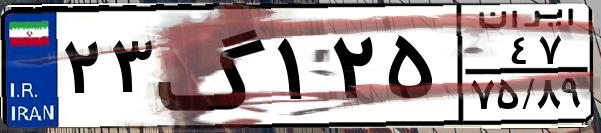1: (270, 28, 330, 110)
2: (330, 28, 385, 110), (57, 26, 110, 100)
3: (110, 28, 156, 98)
4: (508, 27, 537, 80)
5: (385, 28, 445, 110), (495, 70, 520, 125)
7: (537, 27, 568, 80), (470, 70, 495, 125)
8: (535, 70, 560, 125)
9: (560, 70, 590, 125)
گ: (156, 12, 270, 120)
